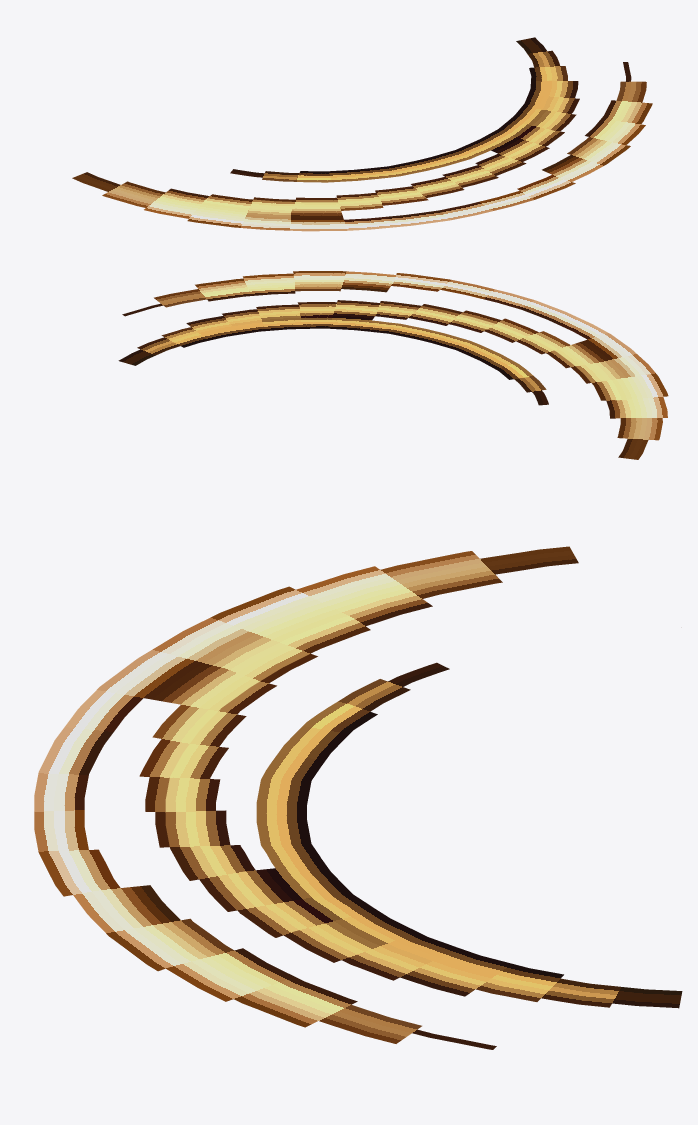
File: banyuan_003.FBX
3 views of the same model, one above another, from view 1: azimuth 30°, elevation 25°; view 2: azimuth 150°, elevation 25°; view 3: azimuth 270°, elevation 25° (orthographic). The views are drawn at different scales.
Parts seen in each view (by area): view 1: banyuan_003; view 2: banyuan_003; view 3: banyuan_003.
Boxes of the visible parts, bbox=[...] form: banyuan_003: bbox=[72, 37, 652, 231]; banyuan_003: bbox=[118, 271, 668, 459]; banyuan_003: bbox=[34, 546, 682, 1049].
Size of the model in its own units: 19.92 by 5.79e-16 by 9.45.
